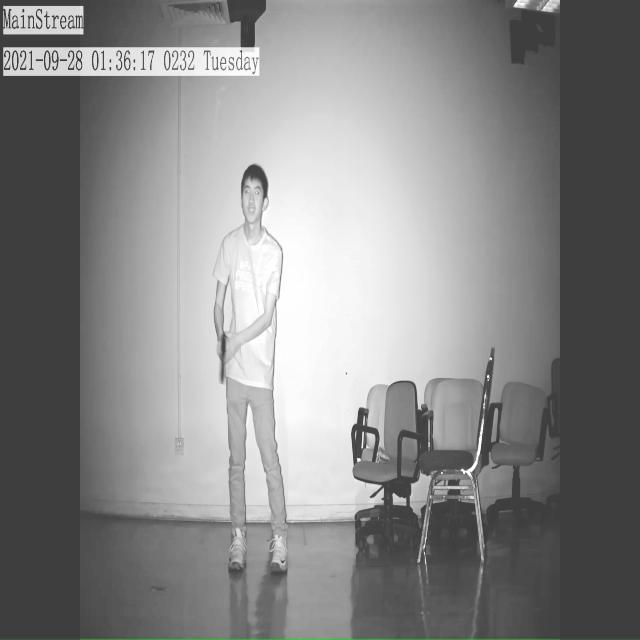Gun: (206, 335, 242, 390)
